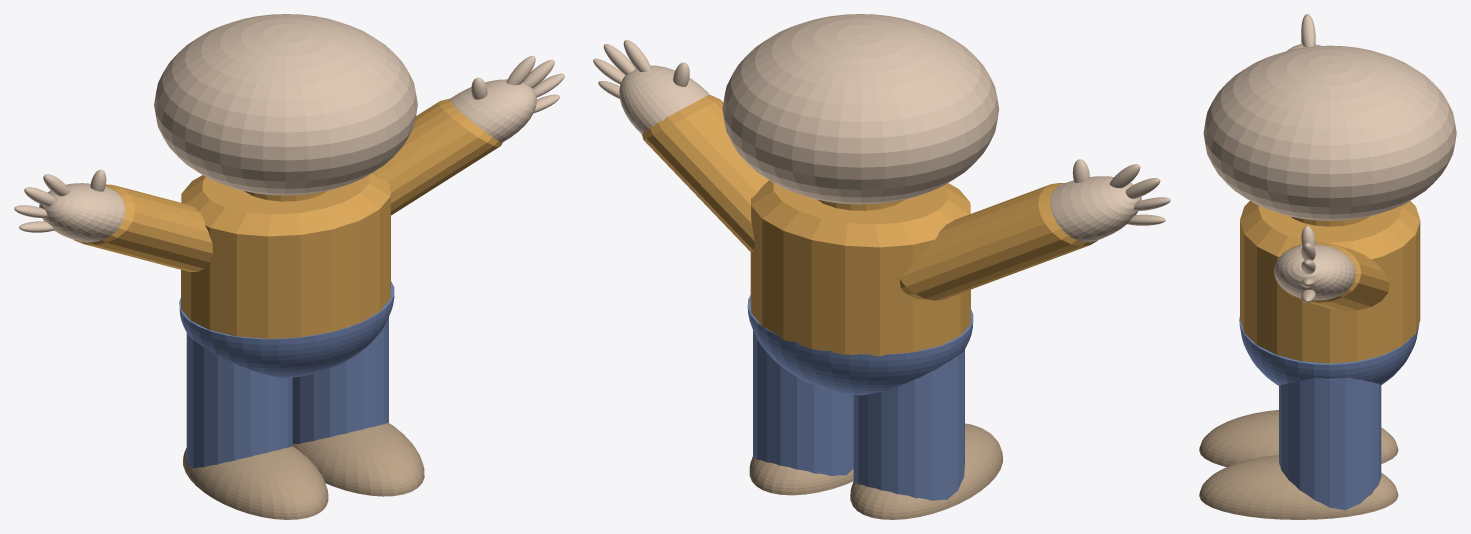
Rendered from barista.glb.
3 views of the same model, side by side, from view 1: azimuth 30°, elevation 25°; view 2: azimuth 150°, elevation 25°; view 3: azimuth 270°, elevation 25° (orthographic). The views are drawn at different scales.
Parts seen in each view (by area): view 1: Mesh_Mesh_head_geo.001_lambert2SG.001; view 2: Mesh_Mesh_head_geo.001_lambert2SG.001; view 3: Mesh_Mesh_head_geo.001_lambert2SG.001.
Boxes of the visible parts, bbox=[...] form: Mesh_Mesh_head_geo.001_lambert2SG.001: bbox=[14, 14, 564, 519]; Mesh_Mesh_head_geo.001_lambert2SG.001: bbox=[593, 14, 1170, 519]; Mesh_Mesh_head_geo.001_lambert2SG.001: bbox=[1199, 14, 1456, 519].
Size of the model in its own units: 0.019 by 0.014 by 0.008.
